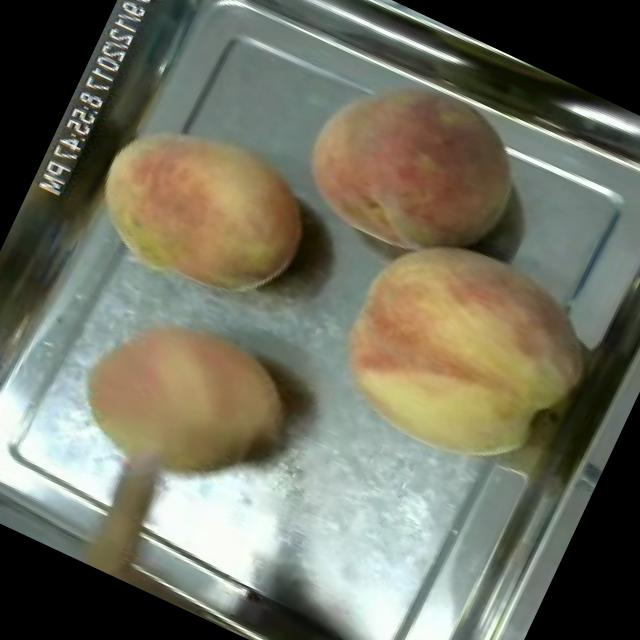Fruit: (302, 198, 621, 504), (276, 36, 552, 296), (64, 86, 338, 333), (51, 280, 314, 527)
